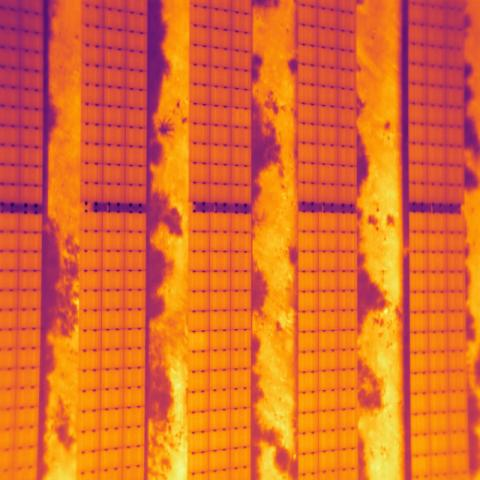fault: (189, 331, 209, 351)
